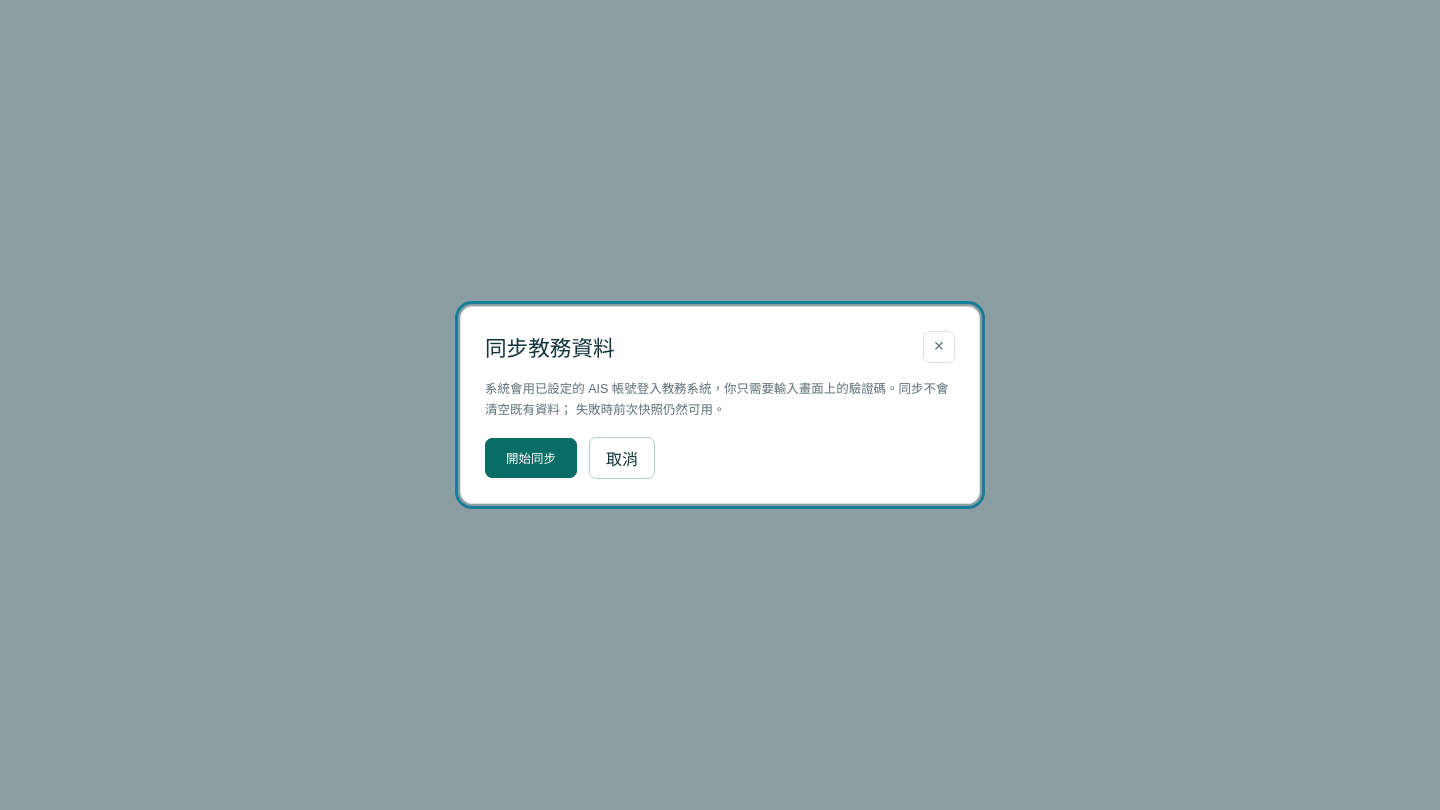
SyncDialog（AIS 同步） › 502 顯示 error.code、message 與「前次快照仍可用」，並可重試
Click the button "開始同步": (531, 458) [485,438,577,478]
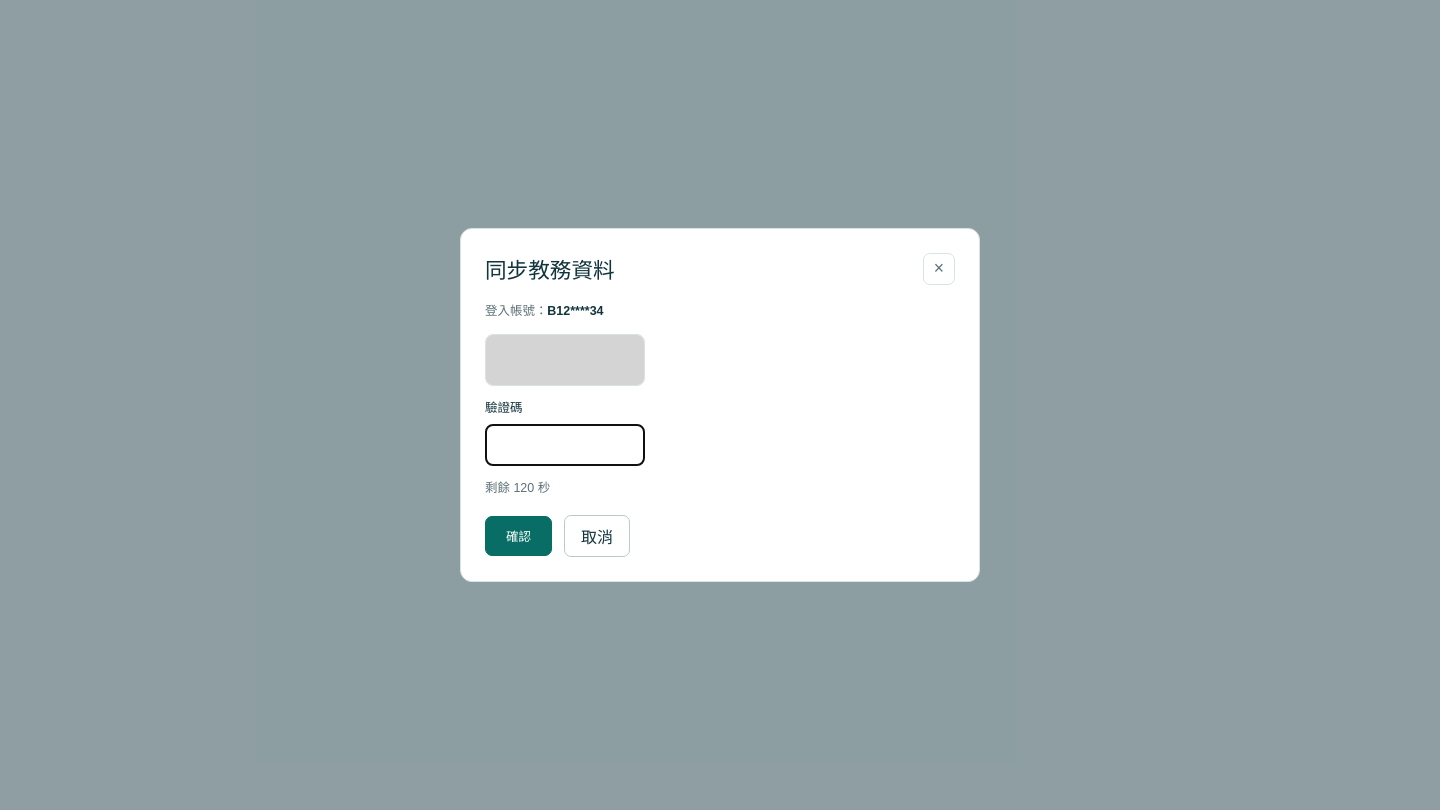
Expected: the field labelled "驗證碼" is shown
In the field labelled "驗證碼": (565, 445) [485,424,645,466], type "A1B2"
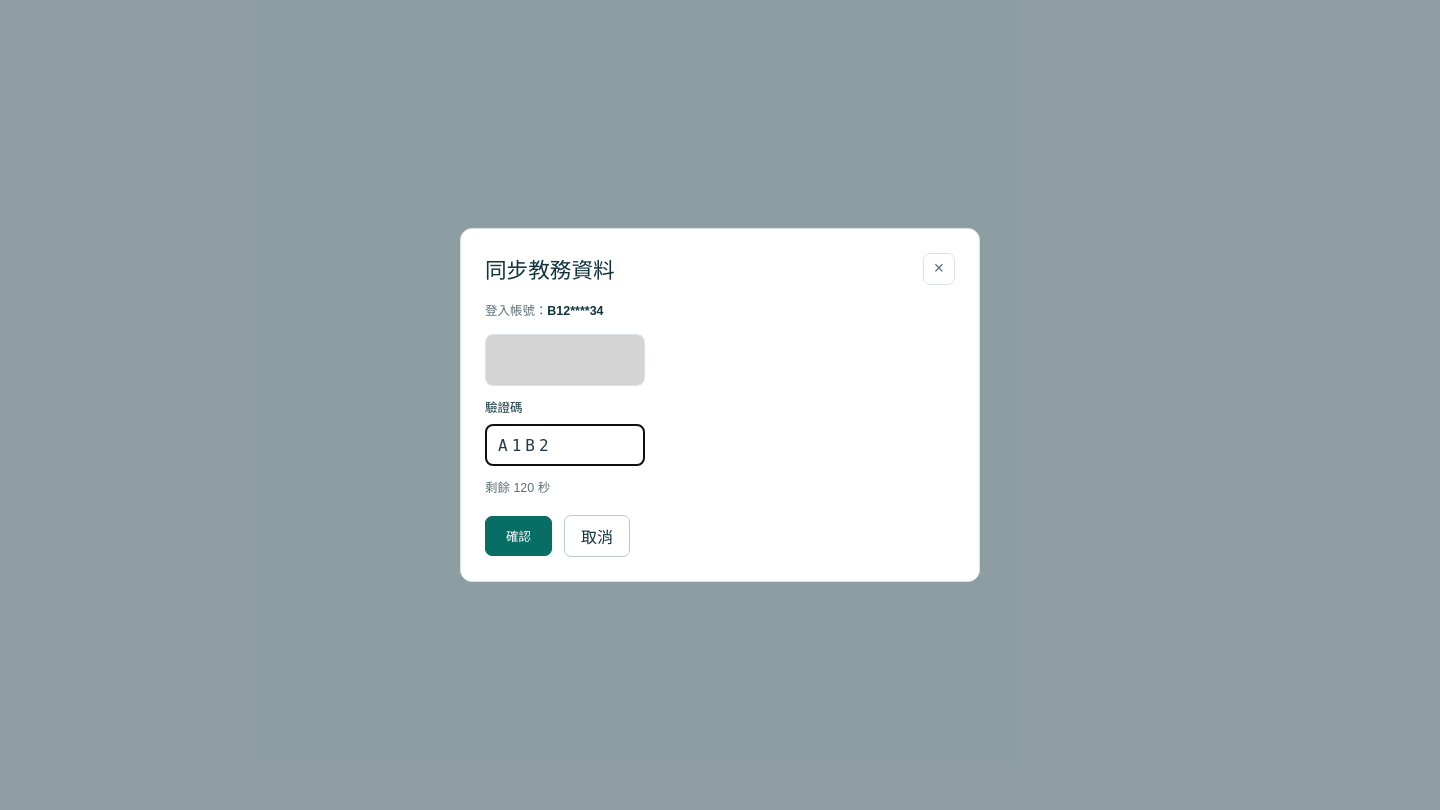
Click the button "確認": (518, 536) [485,516,552,556]
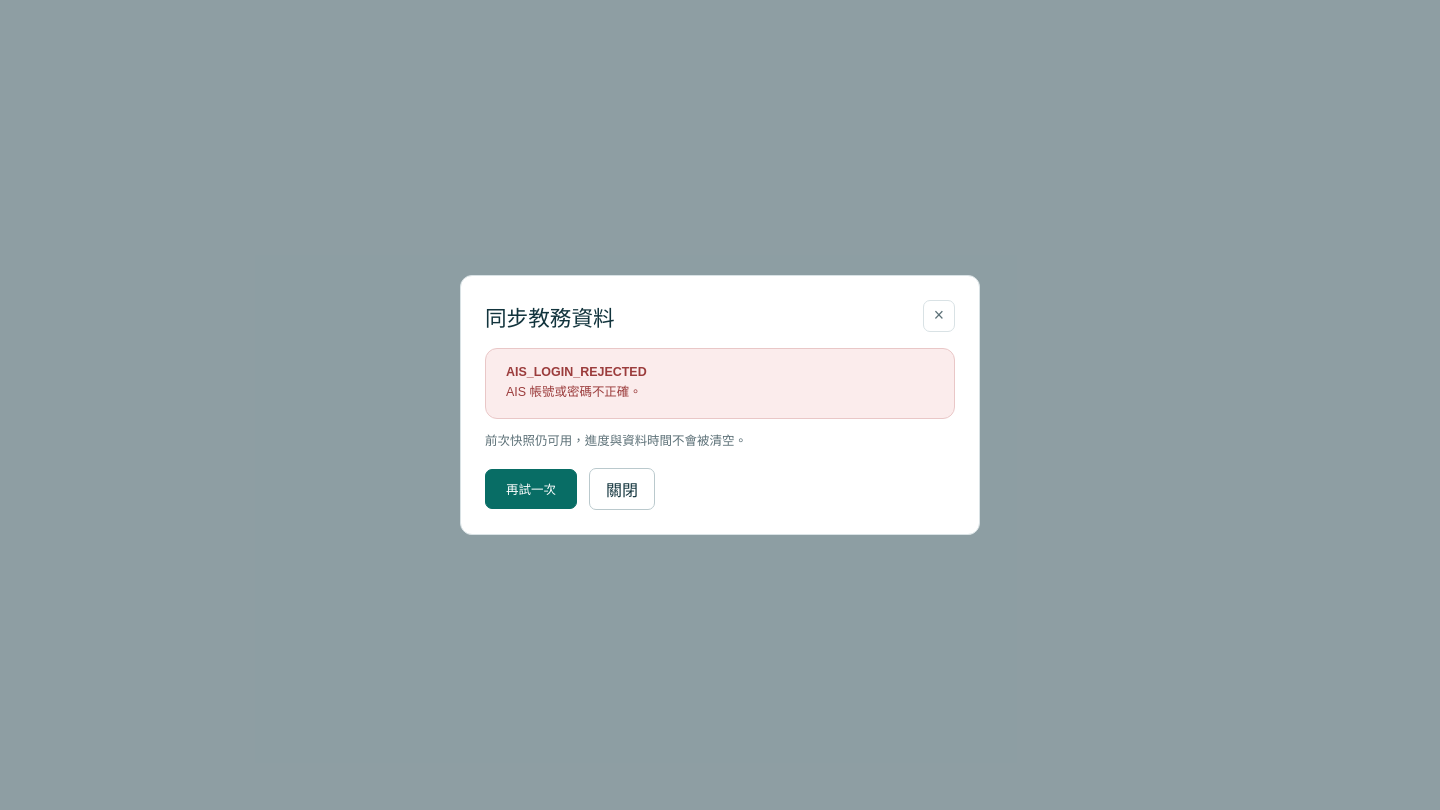
Expected: the text "AIS_LOGIN_REJECTED" is shown, [506,365,647,379]
Expected: the text "AIS 帳號或密碼不正確。" is shown, [506,383,647,402]
Expected: the text "前次快照仍可用，進度與資料時間不會被清空。" is shown, [485,434,747,448]
